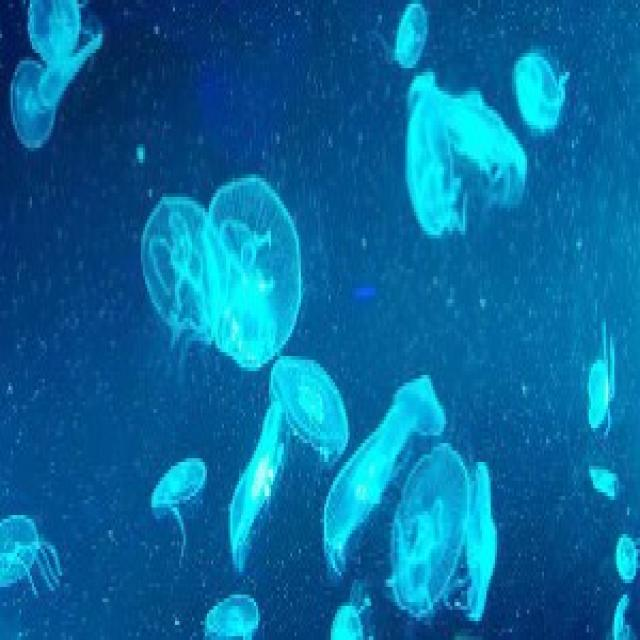Jellyfish: (230, 354, 337, 555), (211, 169, 303, 382), (375, 445, 469, 596), (345, 377, 445, 502), (467, 445, 525, 636), (135, 200, 211, 343), (400, 90, 462, 248), (463, 101, 519, 242), (1, 51, 59, 167), (510, 44, 576, 144), (0, 508, 58, 601), (146, 453, 211, 522), (389, 3, 436, 78), (584, 332, 618, 433), (19, 0, 83, 45), (204, 592, 263, 640), (613, 534, 636, 594)
